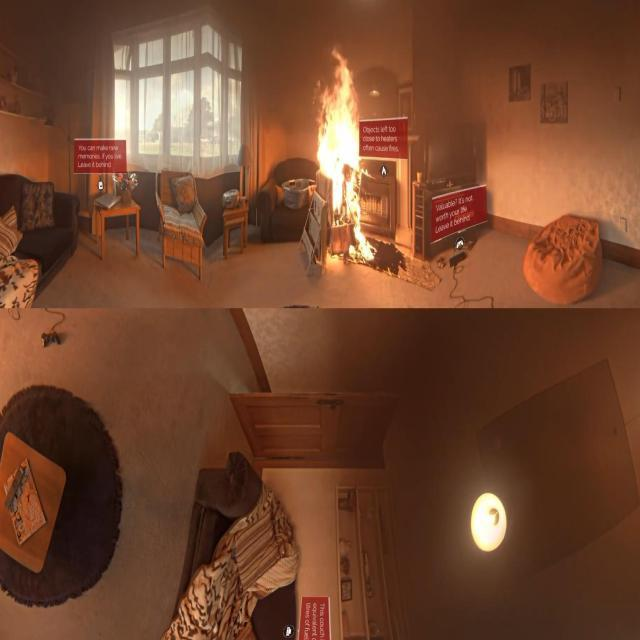smoke: (313, 38, 375, 263)
